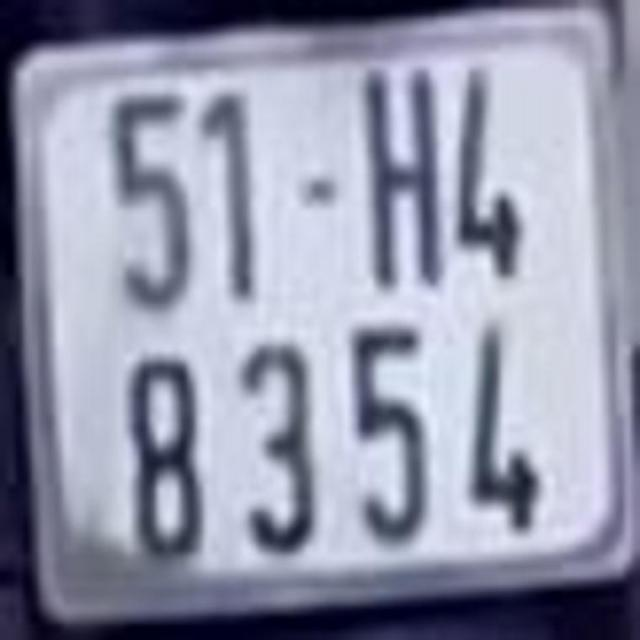1: (194, 75, 267, 308)
3: (241, 331, 314, 559)
4: (457, 316, 539, 551), (448, 56, 523, 282)
5: (347, 320, 432, 550), (112, 80, 193, 313)
8: (125, 341, 211, 564)
H: (360, 59, 444, 295)
